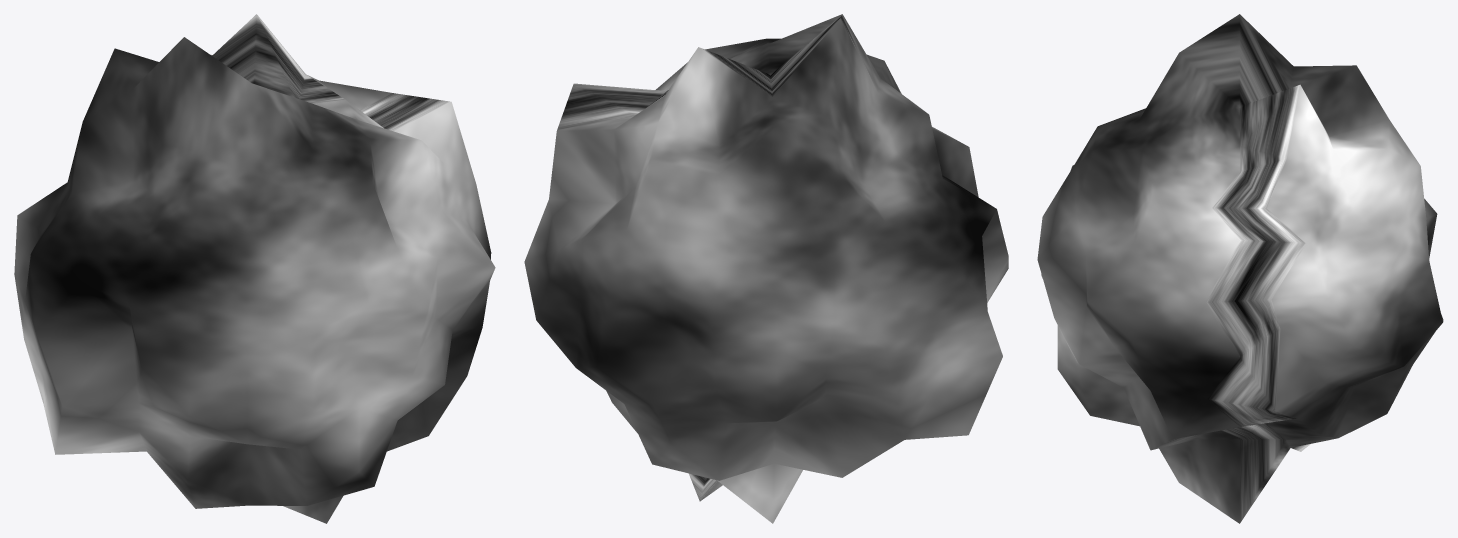
Rendered from block.obj.
3 views of the same model, side by side, from view 1: azimuth 30°, elevation 25°; view 2: azimuth 150°, elevation 25°; view 3: azimuth 270°, elevation 25° (orthographic). The views are drawn at different scales.
Parts seen in each view (by area): view 1: space_rock; view 2: space_rock; view 3: space_rock.
Boxes of the visible parts, x1,y1,x2,y2 form: space_rock: [14, 14, 495, 523]; space_rock: [524, 14, 1008, 523]; space_rock: [1037, 14, 1443, 523].
Size of the model in its own units: 1.15 by 1.32 by 1.08.
1 material, 1 textured.
